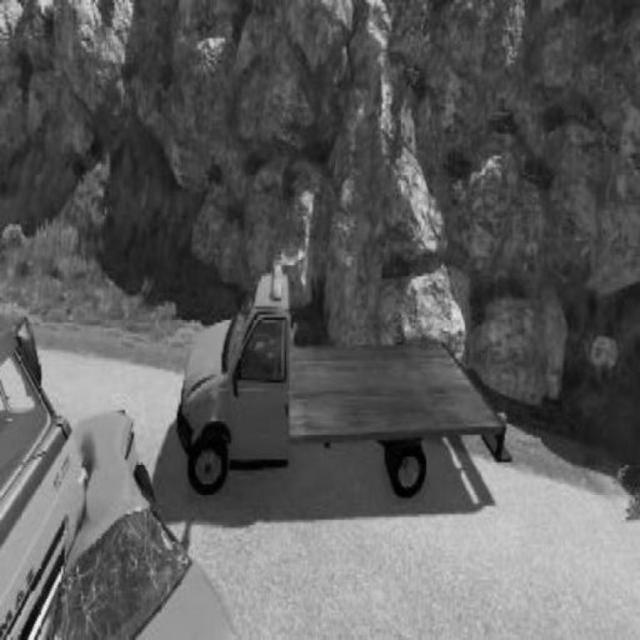vehicle: (175, 270, 509, 500)
